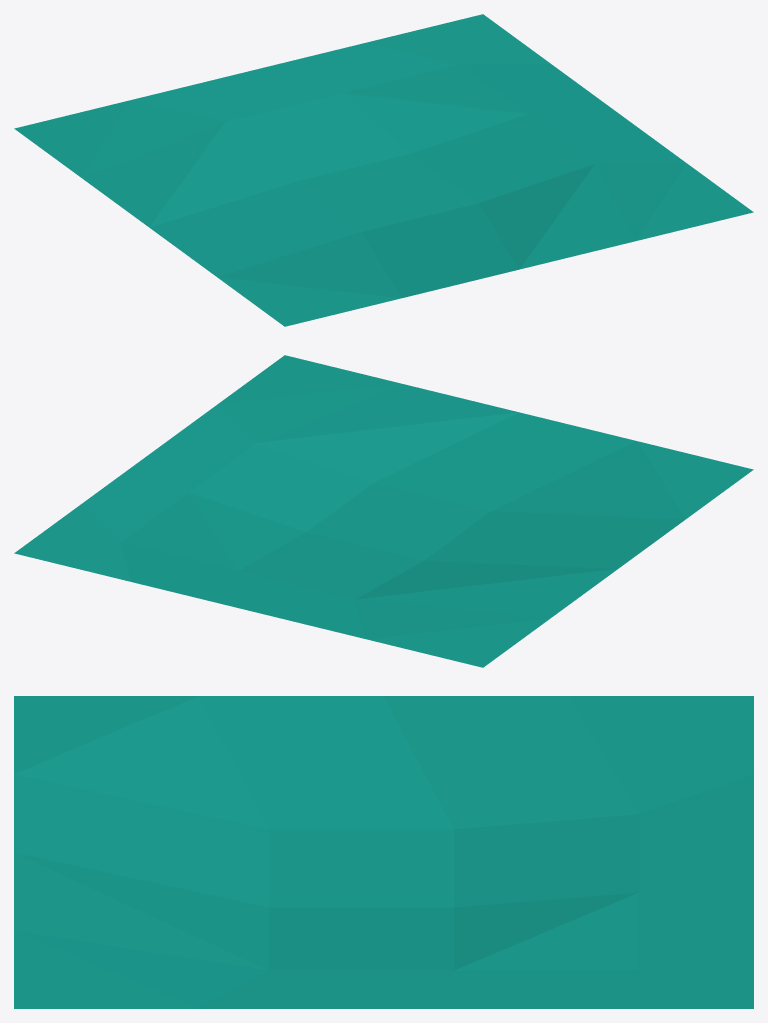
File: s_groundTile_divot.fbx
3 views of the same model, one above another, from view 1: azimuth 30°, elevation 25°; view 2: azimuth 150°, elevation 25°; view 3: azimuth 270°, elevation 25° (orthographic). The views are drawn at different scales.
Parts seen in each view (by area): view 1: groundTile_divot; view 2: groundTile_divot; view 3: groundTile_divot.
Part boxes in pixels (x1,y1,x2,y2): groundTile_divot: (14,14,753,326); groundTile_divot: (14,355,753,667); groundTile_divot: (14,696,753,1008).
Bounding box in the file's own units: 1 × 0.0302 × 1.
